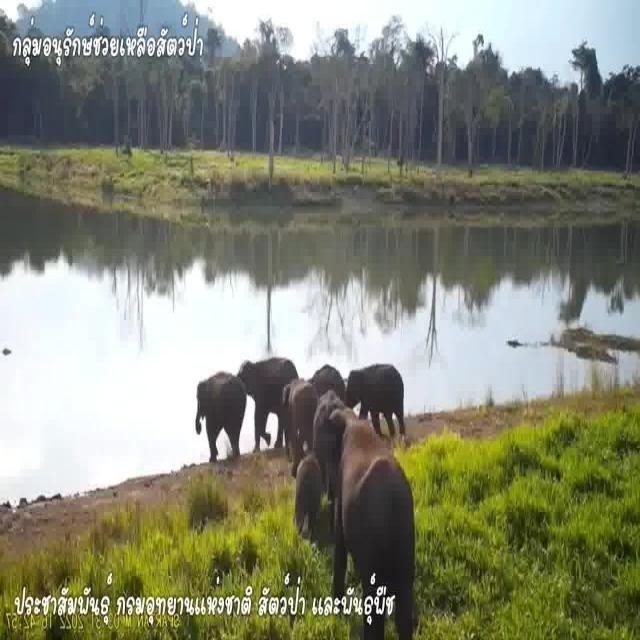Elephant: (333, 452, 415, 594), (348, 352, 406, 437), (190, 371, 245, 446), (238, 358, 289, 435), (280, 378, 324, 452), (295, 458, 325, 530)
